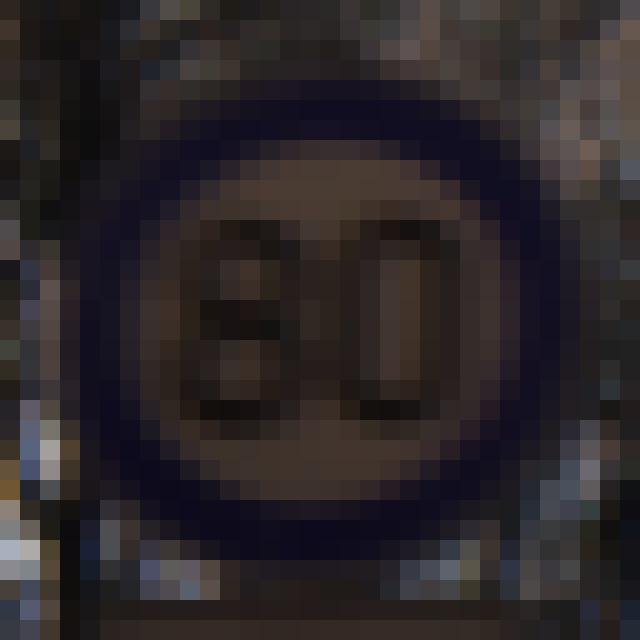SPEED-LIMIT-80: (73, 101, 577, 544)
